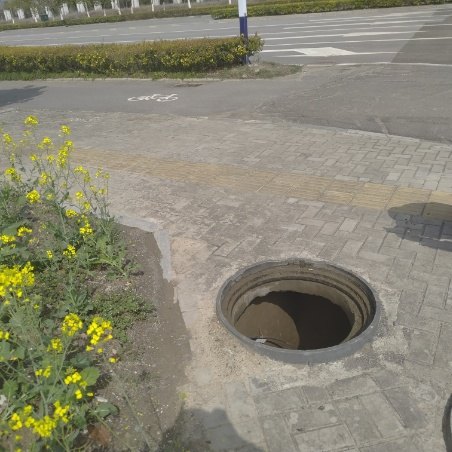lose: (217, 258, 382, 365)
